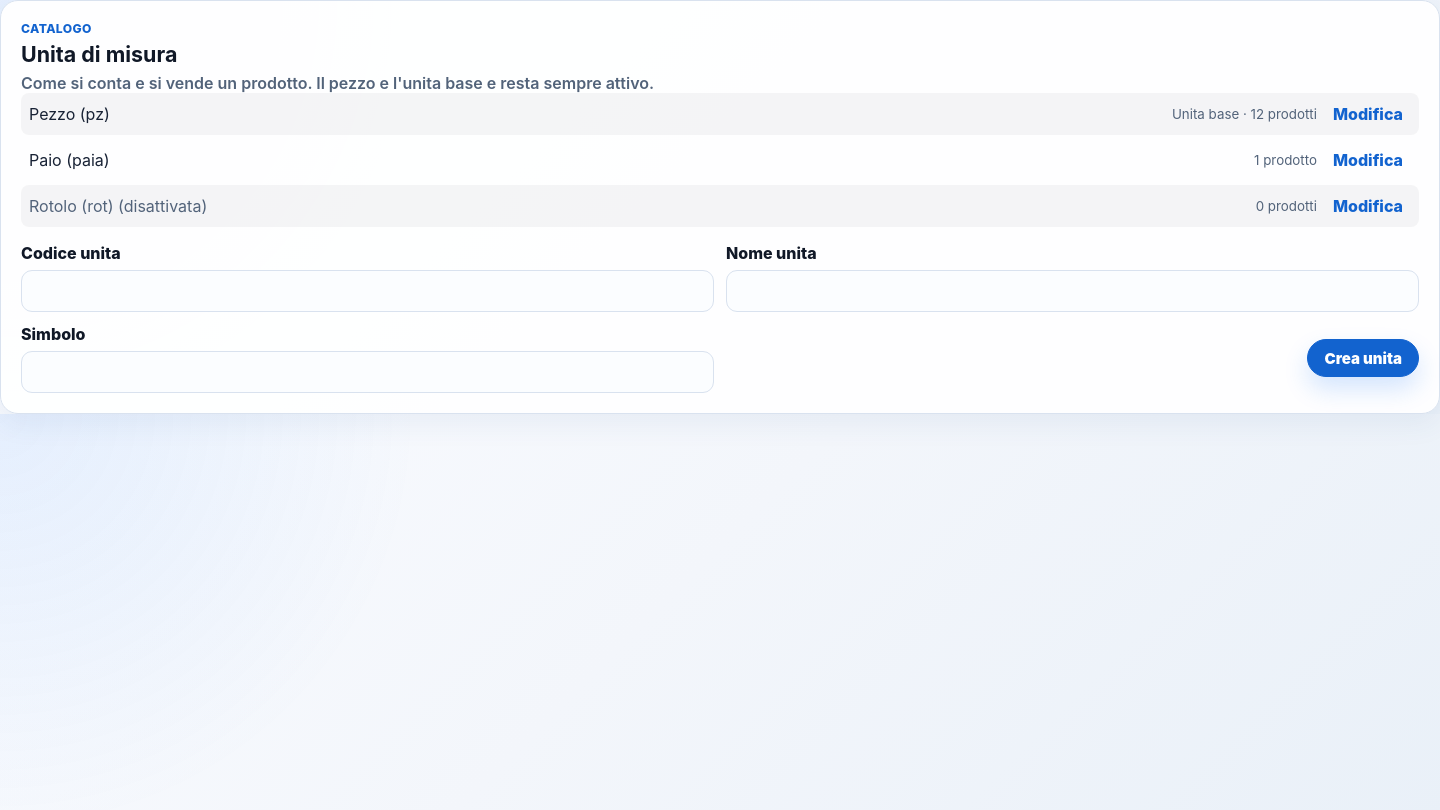
UnitManager › non offre la disattivazione dell unita base e blocca il codice in modifica
Click the button with aria-label "Modifica unita Pezzo" at (1368, 114), box x1=1325 y1=99 x2=1411 y2=129
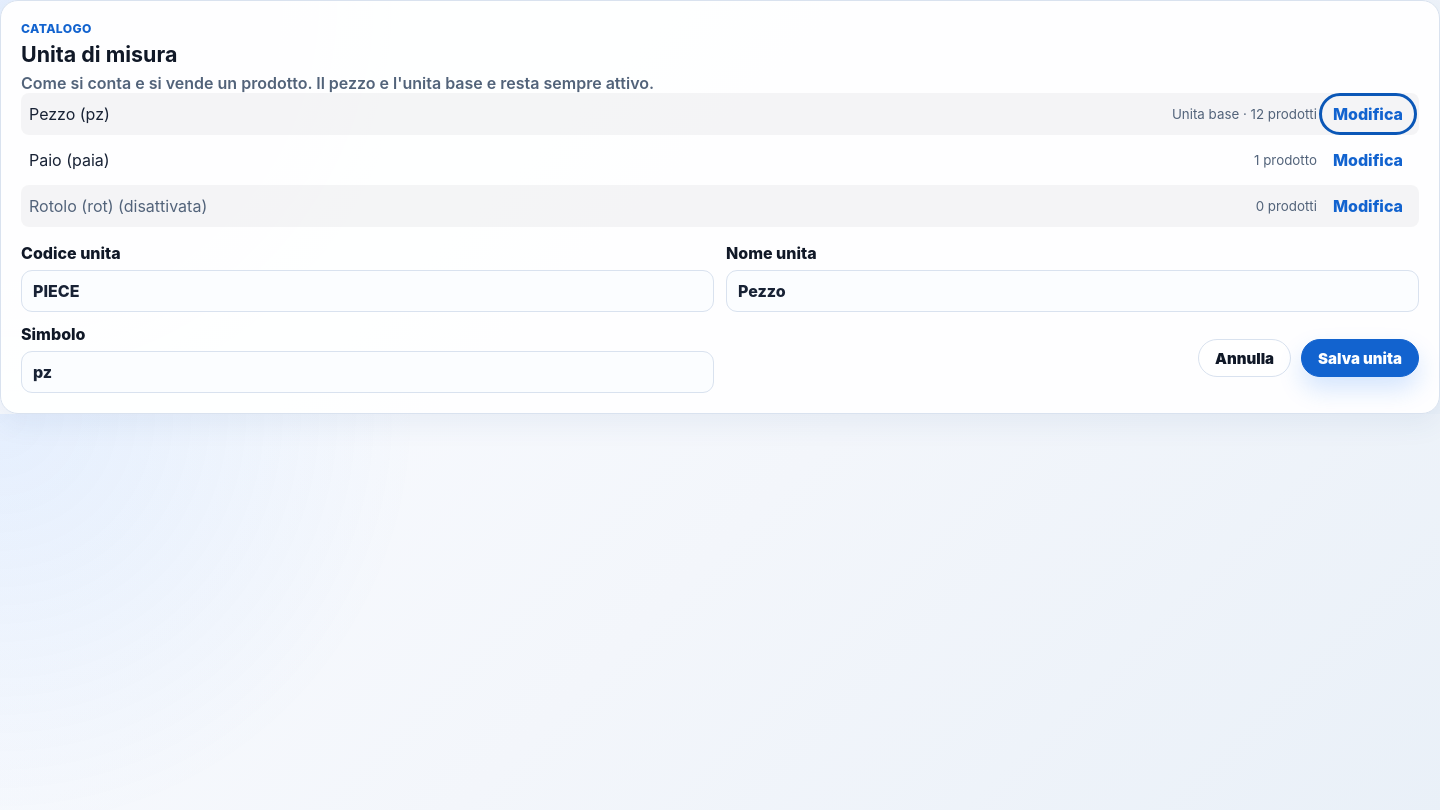
Expected: the field labelled "Codice unita" has attribute readonly, x1=21 y1=270 x2=714 y2=312
Click the button with aria-label "Modifica unita Paio" at (1368, 160), box x1=1325 y1=145 x2=1411 y2=175
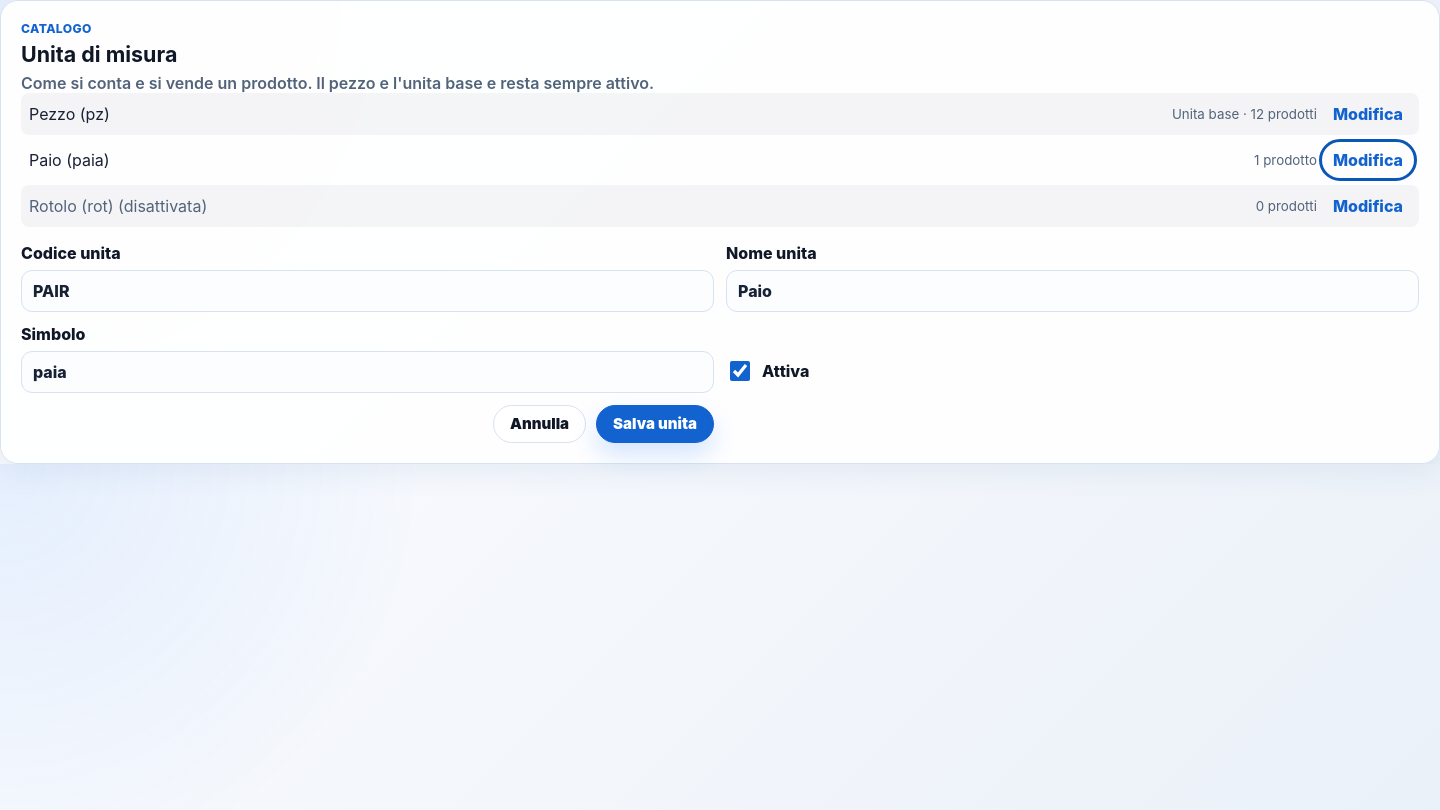
Expected: the checkbox labelled "Attiva" is checked, x1=730 y1=361 x2=750 y2=381
